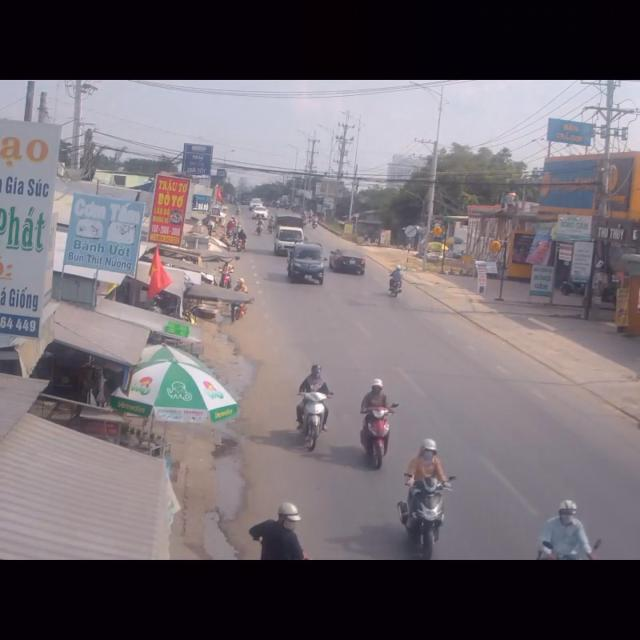car: (330, 248, 366, 274)
motorbike: (396, 438, 450, 558), (358, 375, 393, 471), (538, 498, 592, 560), (294, 362, 329, 455), (386, 264, 402, 300)
truck: (284, 240, 326, 287)
